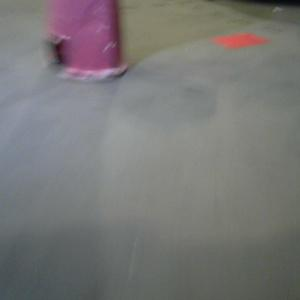middle: (42, 1, 127, 80)
